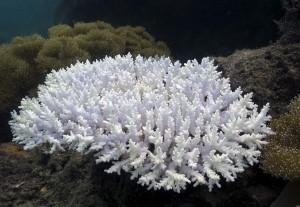bleached_corals: (6, 48, 277, 197)
